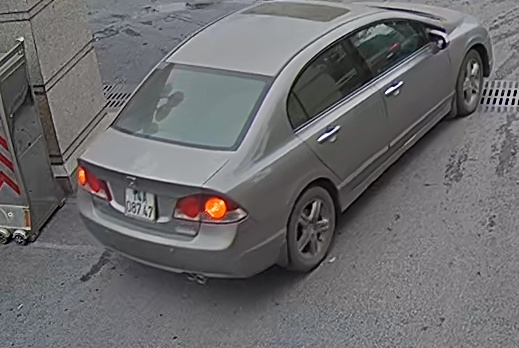vehicle plate: (115, 180, 161, 221)
